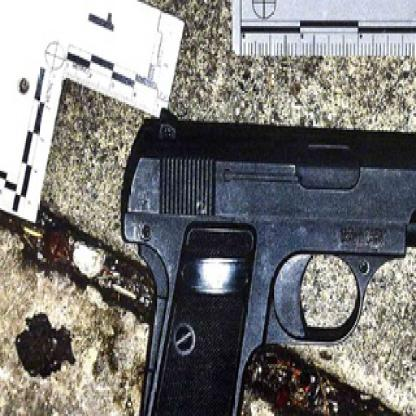gun: (128, 117, 414, 414)
